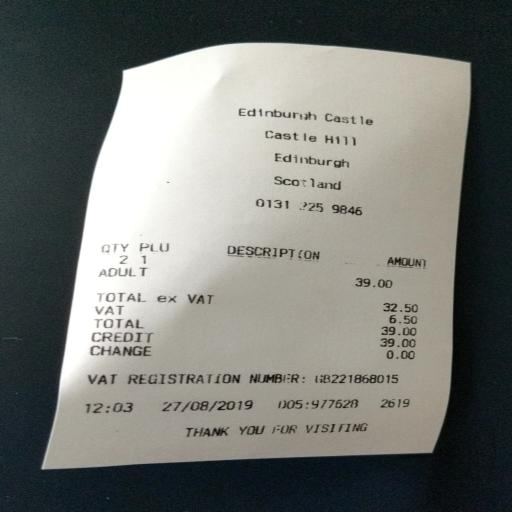paper: (15, 10, 477, 497)
